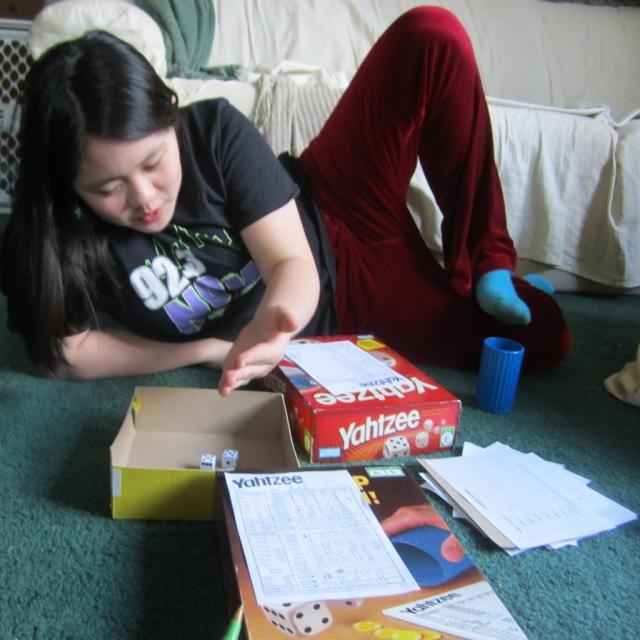Box: (258, 333, 462, 462), (110, 386, 302, 519)
